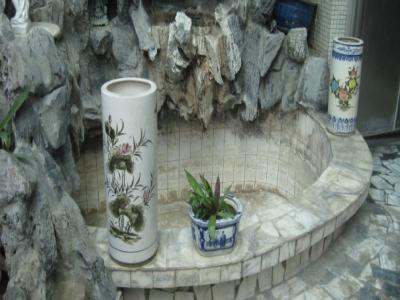bottle: (97, 75, 162, 266), (323, 35, 365, 136), (187, 193, 243, 255)
